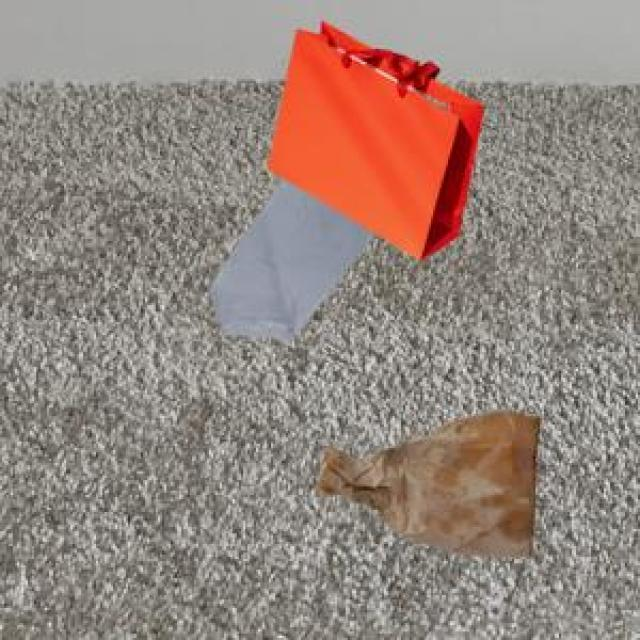paper: (265, 17, 480, 256), (315, 408, 537, 553)
